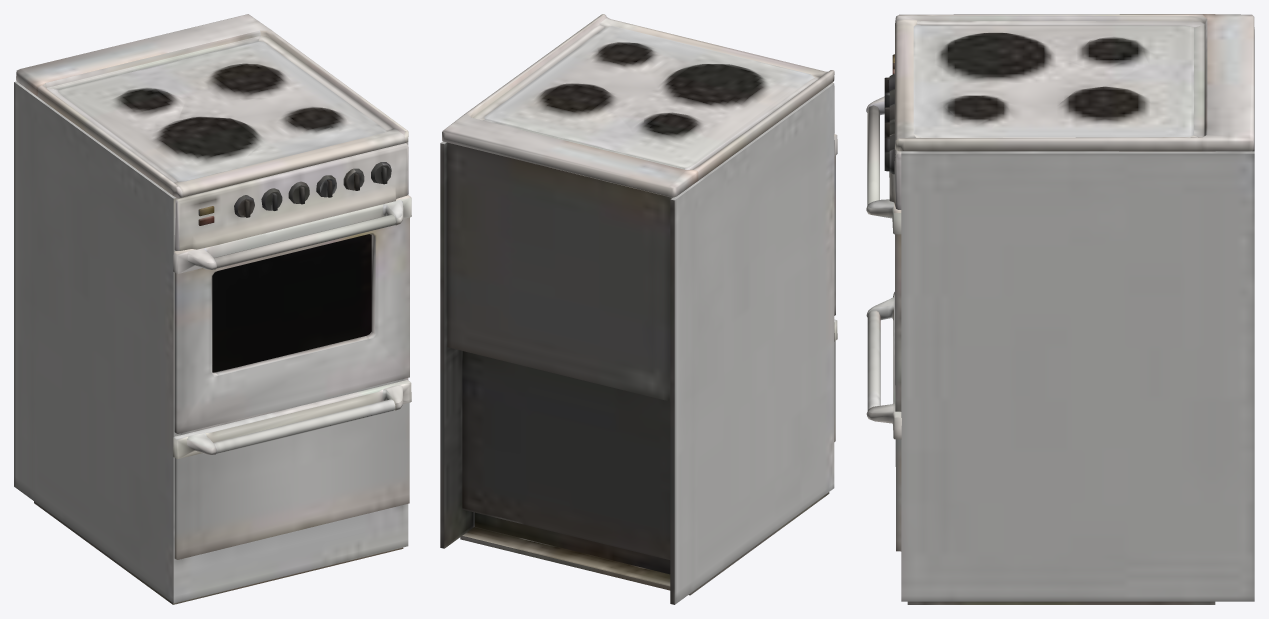
The model's file is cooker-electric.lite.45eb5523.glb.
3 views of the same model, side by side, from view 1: azimuth 30°, elevation 25°; view 2: azimuth 150°, elevation 25°; view 3: azimuth 270°, elevation 25° (orthographic). The views are drawn at different scales.
Parts seen in each view (by area): view 1: model; view 2: model; view 3: model.
Part boxes in pixels (x1,y1,x2,y2): model: [14, 14, 411, 604]; model: [440, 14, 837, 604]; model: [866, 14, 1254, 604].
Size of the model in its own units: 0.5026 by 0.8585 by 0.6476.
2 materials, 2 textured.
